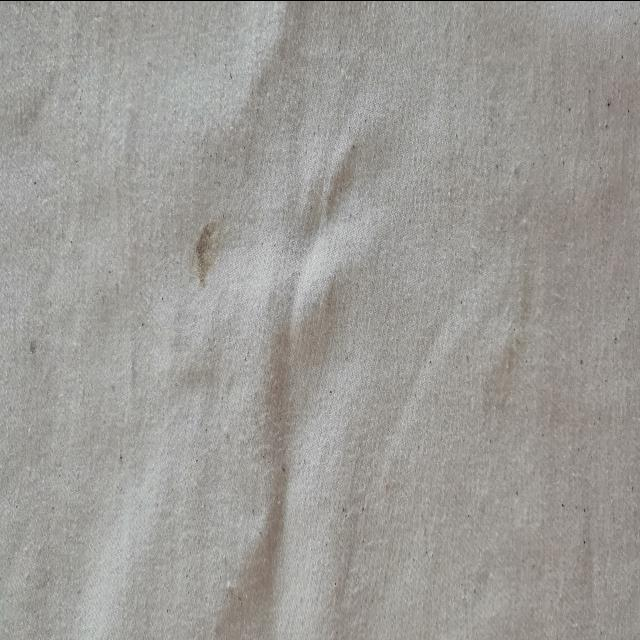taaaches: (184, 195, 240, 312)
